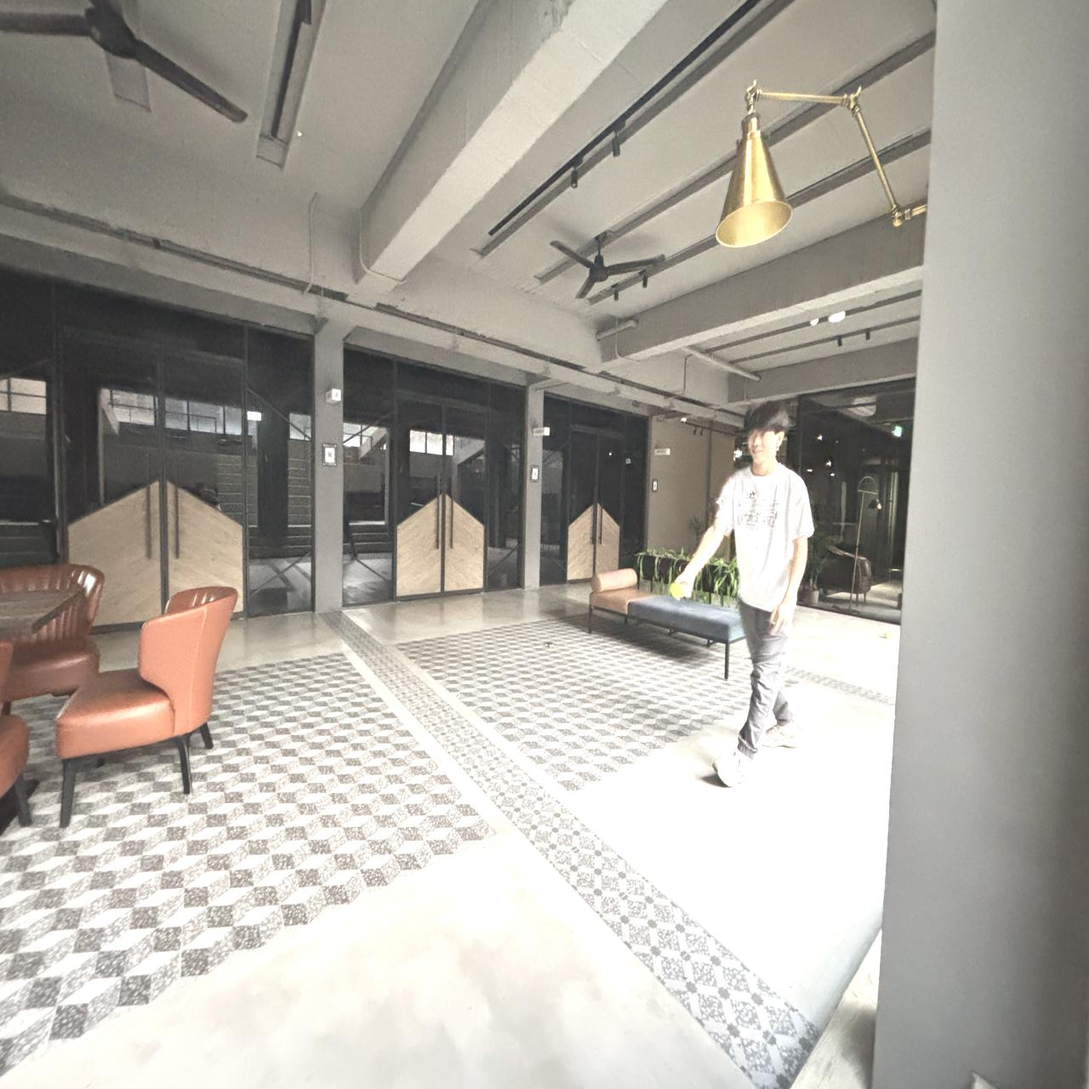person: (677, 402, 813, 786)
tennisball: (669, 583, 684, 598), (884, 631, 890, 639)
